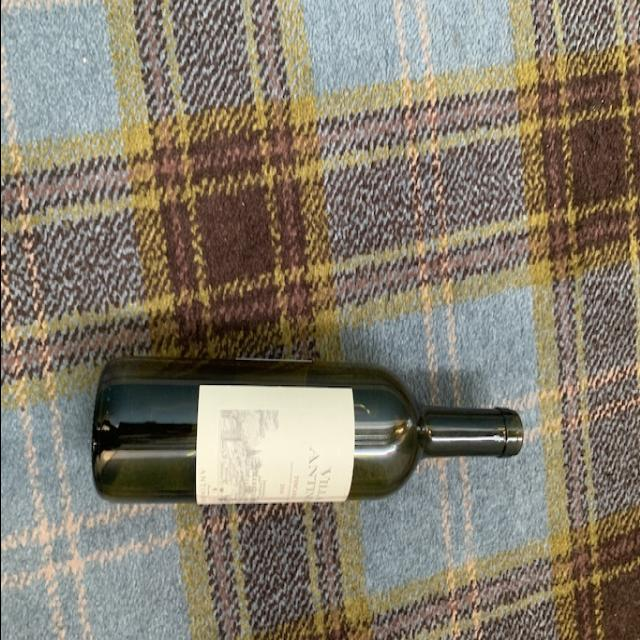Glass Bottle: (90, 350, 525, 511)
